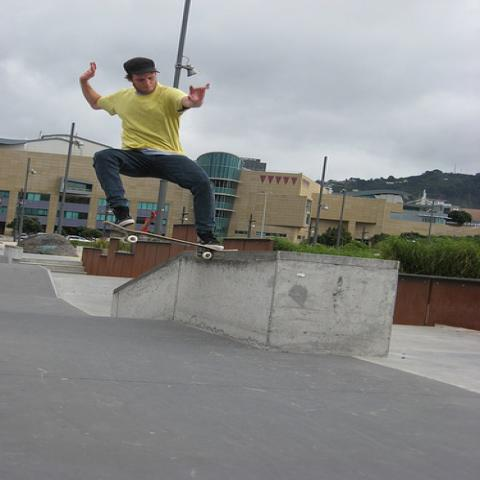car: (66, 234, 91, 243)
